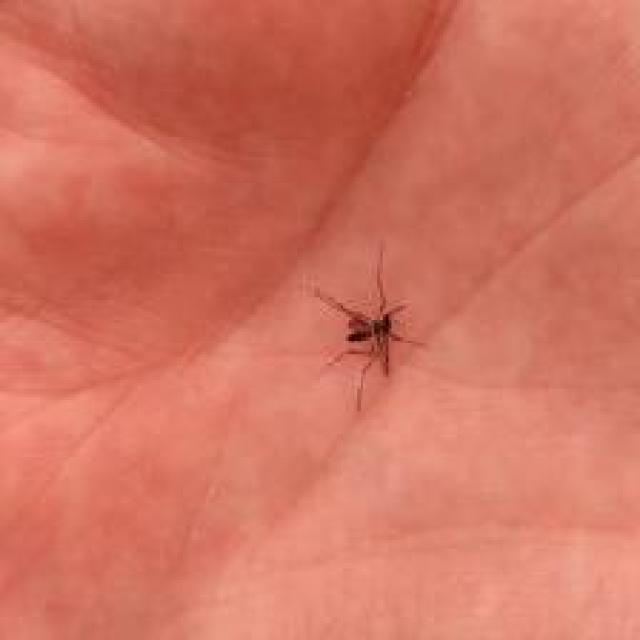Aedes albopictus: (310, 241, 427, 413)
